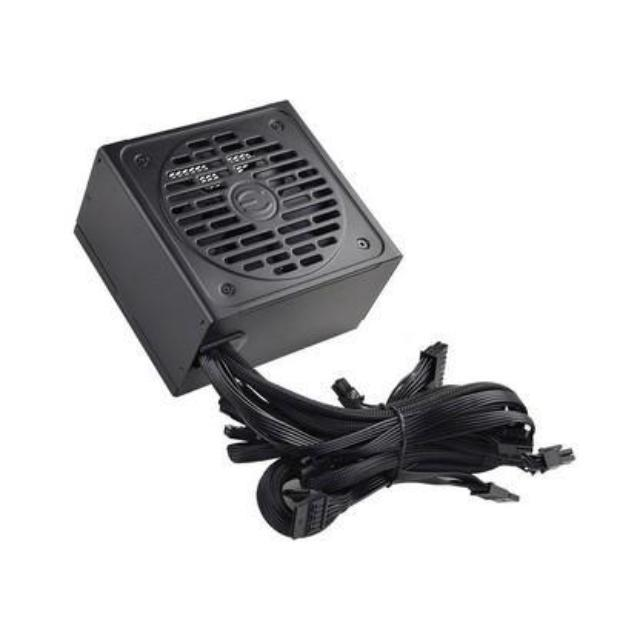PSU: (67, 71, 416, 412)
